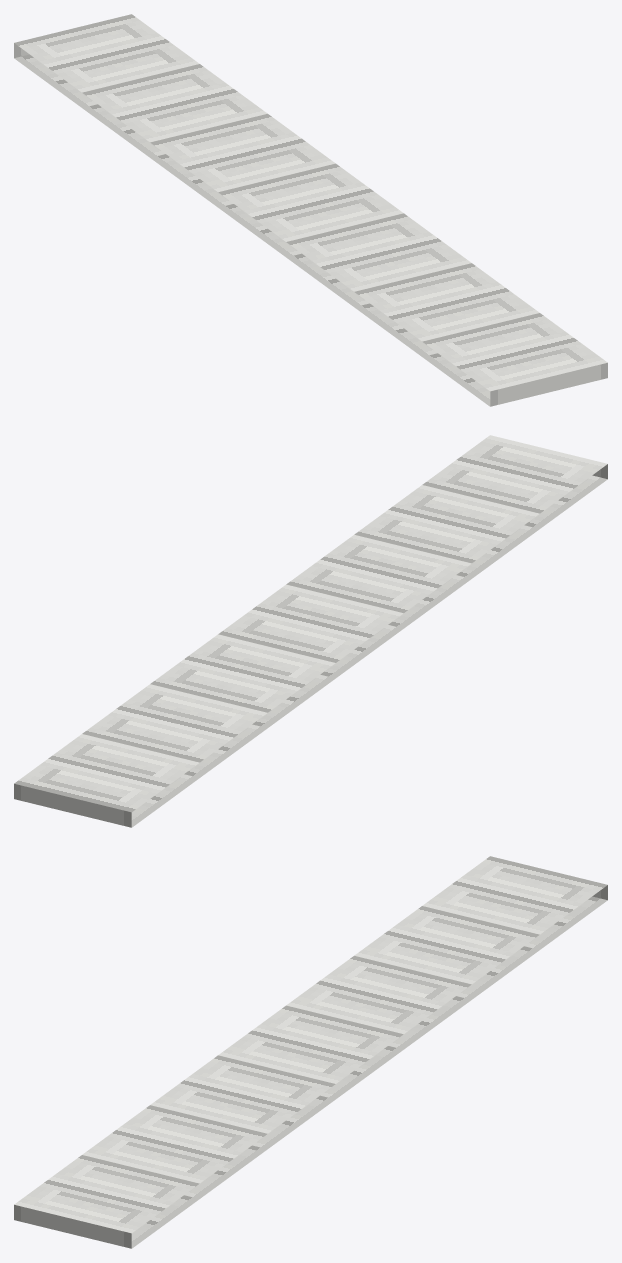
Rendered from white_run_7.obj.
3 renders of one model, top to bottom at view 1: azimuth 30°, elevation 25°; view 2: azimuth 150°, elevation 25°; view 3: azimuth 330°, elevation 25°, orthographic.
Parts seen in each view (by area): view 1: run; view 2: run; view 3: run.
Boxes of the visible parts, bbox=[...] form: run: bbox=[14, 14, 607, 406]; run: bbox=[14, 435, 607, 827]; run: bbox=[14, 856, 607, 1248].
Bounding box in the file's own units: 1 × 0.125 × 7.
